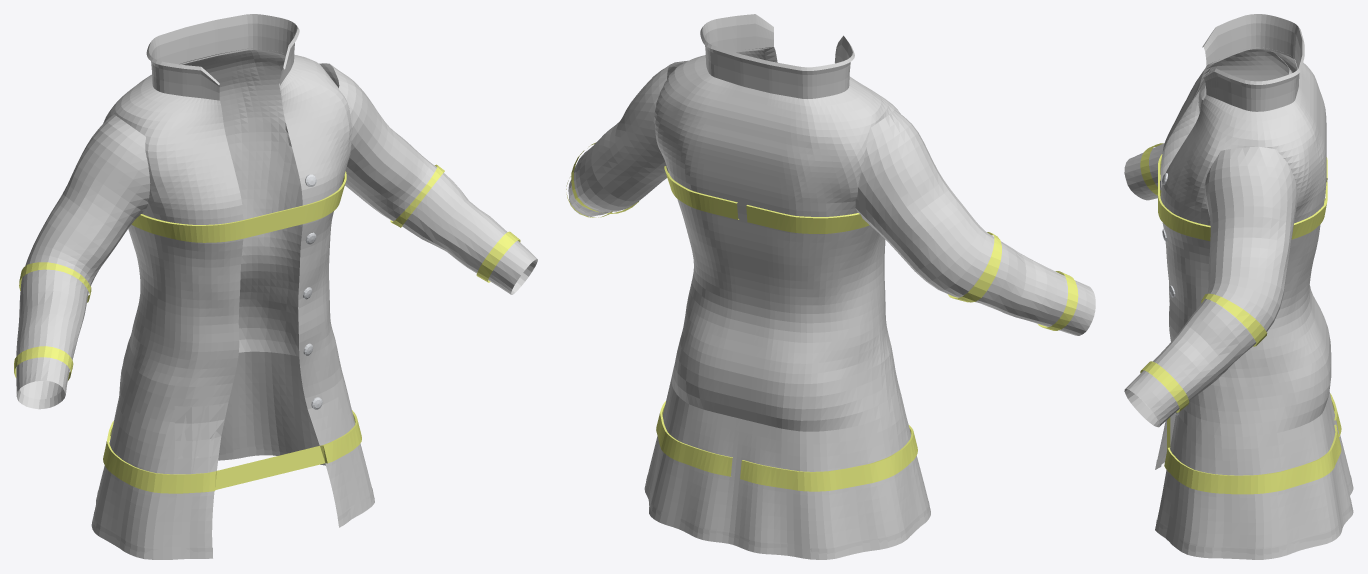
Rendered from ewb_turnout_open.glb.
The picture shows the model from 3 angles, left to right: view 1: azimuth 30°, elevation 25°; view 2: azimuth 150°, elevation 25°; view 3: azimuth 270°, elevation 25°; orthographic projection. The views are drawn at different scales.
Parts seen in each view (by area): view 1: ewb_turnout_open; view 2: ewb_turnout_open; view 3: ewb_turnout_open.
Part boxes in pixels (x1,y1,x2,y2): ewb_turnout_open: [14, 14, 537, 559]; ewb_turnout_open: [566, 14, 1095, 559]; ewb_turnout_open: [1124, 14, 1353, 559].
Size of the model in its own units: 1.13 by 0.9684 by 0.4442.
